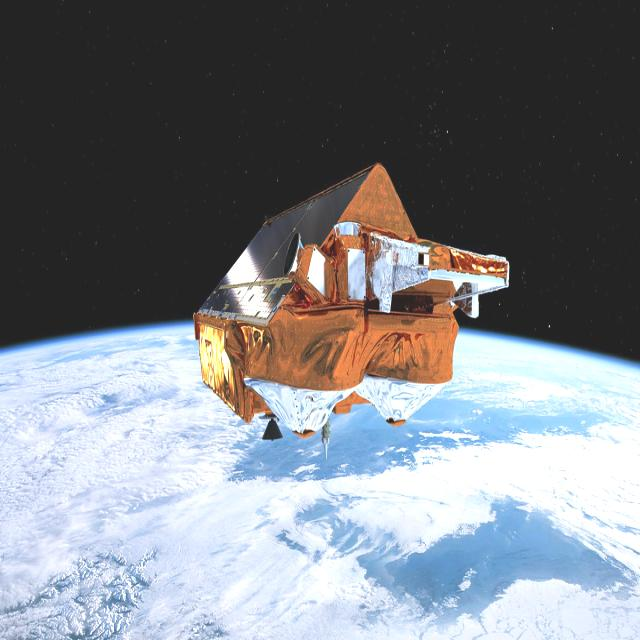medium_debris: (180, 143, 520, 472)
